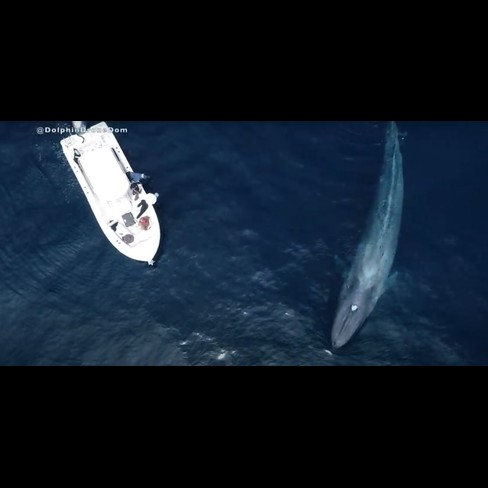bluewhale: (320, 122, 410, 356)
boat: (58, 120, 166, 270)
